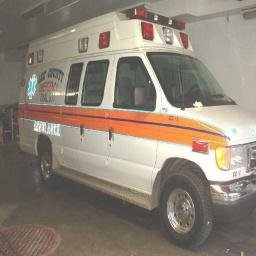Ambulance: (19, 9, 255, 246)
